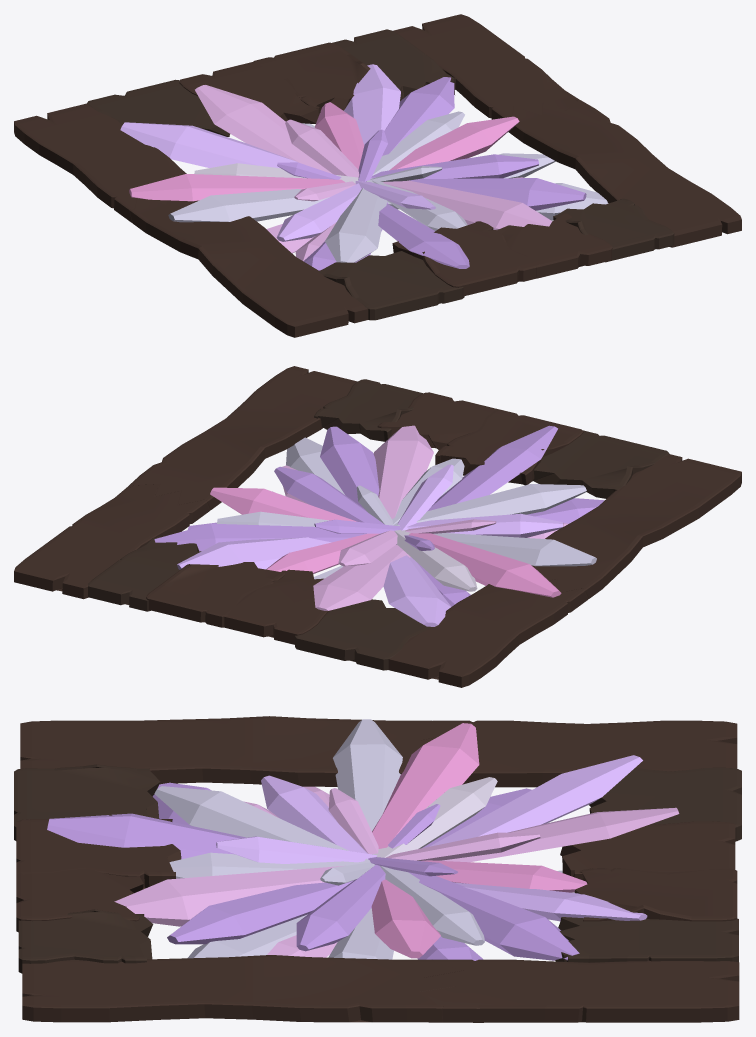
The model's file is wood floor broken with crystals (1).fbx.
The picture shows the model from 3 angles, top to bottom: view 1: azimuth 30°, elevation 25°; view 2: azimuth 150°, elevation 25°; view 3: azimuth 270°, elevation 25°; orthographic projection. The views are drawn at different scales.
Parts seen in each view (by area): view 1: Cube.019, Circle.003, Circle.011, Circle.002, Circle, Circle.007, Circle.006, Circle.012, Circle.015, Circle.016, Circle.008, Circle.009 (+14 smaller); view 2: Cube.019, Circle.008, Circle.002, Circle.007, Circle.015, Circle.003, Circle.011, Circle, Circle.009, Circle.006, Circle.016, Circle.013 (+13 smaller); view 3: Cube.019, Circle.002, Circle.003, Circle.007, Circle.006, Circle.009, Circle.008, Circle.015, Circle, Circle.011, Circle.013, Circle.012 (+18 smaller).
Part boxes in pixels (box(x1,y1,x2,y2)): Cube.019: box(14, 14, 741, 337); Circle.003: box(120, 122, 297, 168); Circle.011: box(195, 85, 332, 173); Circle.002: box(129, 174, 344, 201); Circle: box(168, 189, 329, 222); Circle.007: box(383, 180, 552, 229); Circle.006: box(409, 178, 586, 210); Circle.012: box(389, 116, 519, 170); Circle.015: box(325, 180, 387, 262); Circle.016: box(343, 64, 400, 145); Circle.008: box(378, 203, 469, 268); Circle.009: box(382, 77, 454, 155); Cube.019: box(14, 366, 741, 687); Circle.008: box(427, 425, 557, 511); Circle.002: box(409, 533, 561, 597); Circle.007: box(373, 425, 433, 518); Circle.015: box(393, 484, 586, 525); Circle.003: box(383, 555, 451, 626); Circle.011: box(313, 544, 410, 610); Circle: box(433, 533, 596, 566); Circle.009: box(154, 523, 365, 551); Circle.006: box(320, 426, 379, 509); Circle.016: box(177, 537, 331, 569); Circle.013: box(274, 466, 384, 524); Cube.019: box(14, 716, 741, 1022); Circle.002: box(372, 723, 479, 848); Circle.003: box(429, 755, 642, 846); Circle.007: box(114, 865, 345, 926); Circle.006: box(167, 880, 353, 944); Circle.009: box(409, 872, 579, 960); Circle.008: box(47, 813, 245, 859); Circle.015: box(154, 786, 370, 862); Circle: box(333, 719, 402, 831); Circle.011: box(440, 807, 679, 862); Circle.013: box(296, 864, 385, 951); Circle.012: box(371, 879, 440, 958).
Bounding box in the file's own units: 903 × 93.2 × 977.
